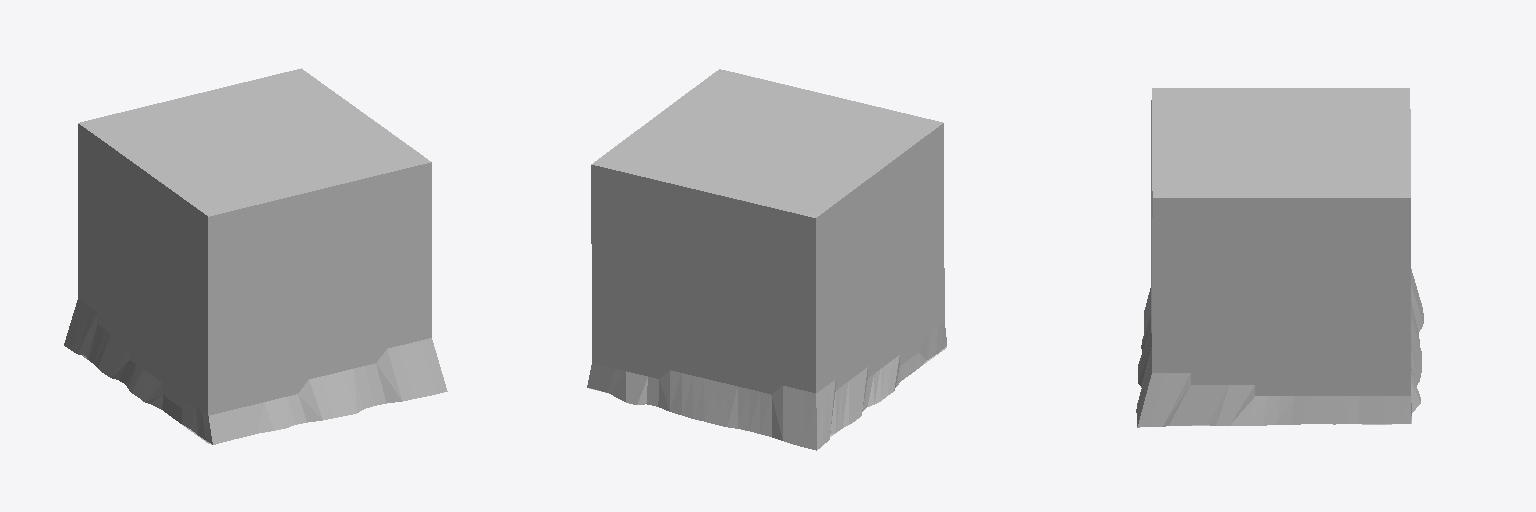
File: mod0181.obj
3 views of the same model, side by side, from view 1: azimuth 30°, elevation 25°; view 2: azimuth 150°, elevation 25°; view 3: azimuth 270°, elevation 25° (orthographic).
Parts seen in each view (by area): view 1: Box001; view 2: Box001; view 3: Box001.
Boxes of the visible parts, x1,y1,x2,y2 form: Box001: [64, 68, 447, 444]; Box001: [587, 69, 946, 450]; Box001: [1136, 88, 1423, 427].
Bounding box in the file's own units: 0.5799 × 0.5215 × 0.5979.